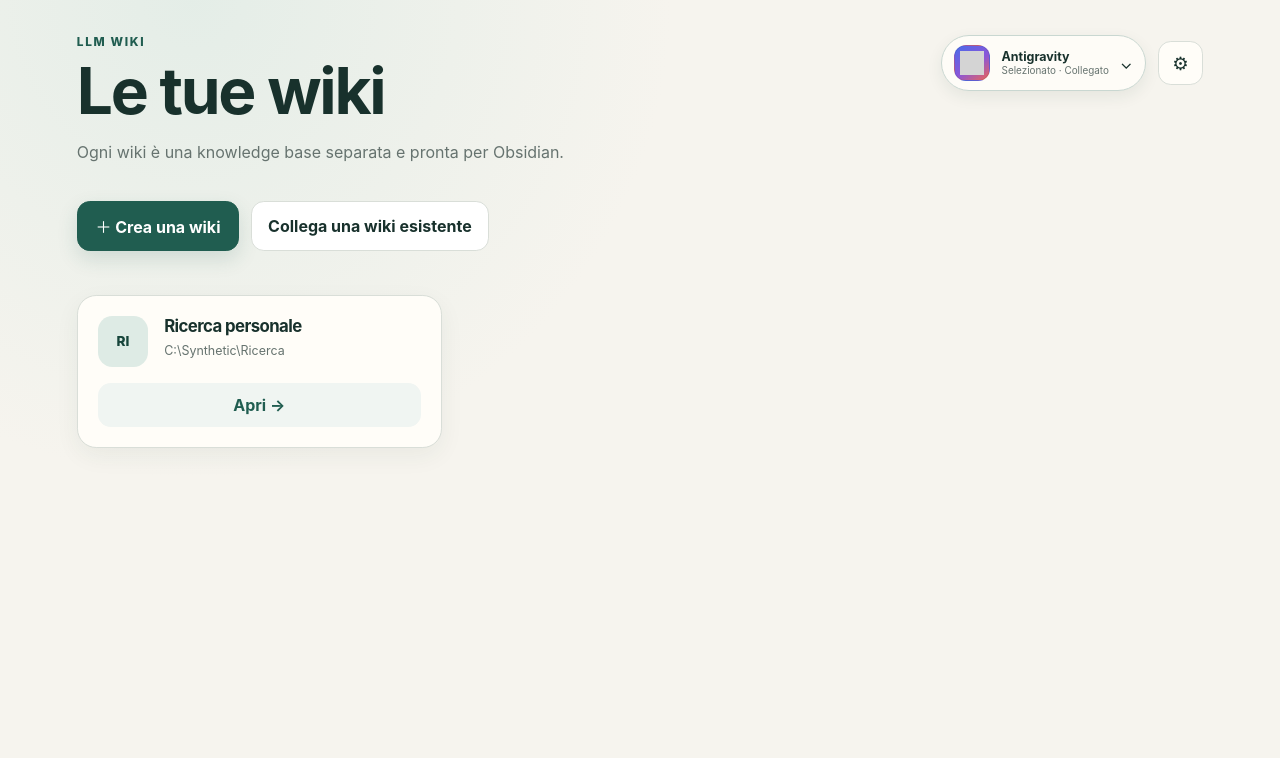
App › shows the provider failure reason and automatically opens diagnostics
Click the button "Apri →" at (259, 405), box [98,383,421,427]
(page scrolled)
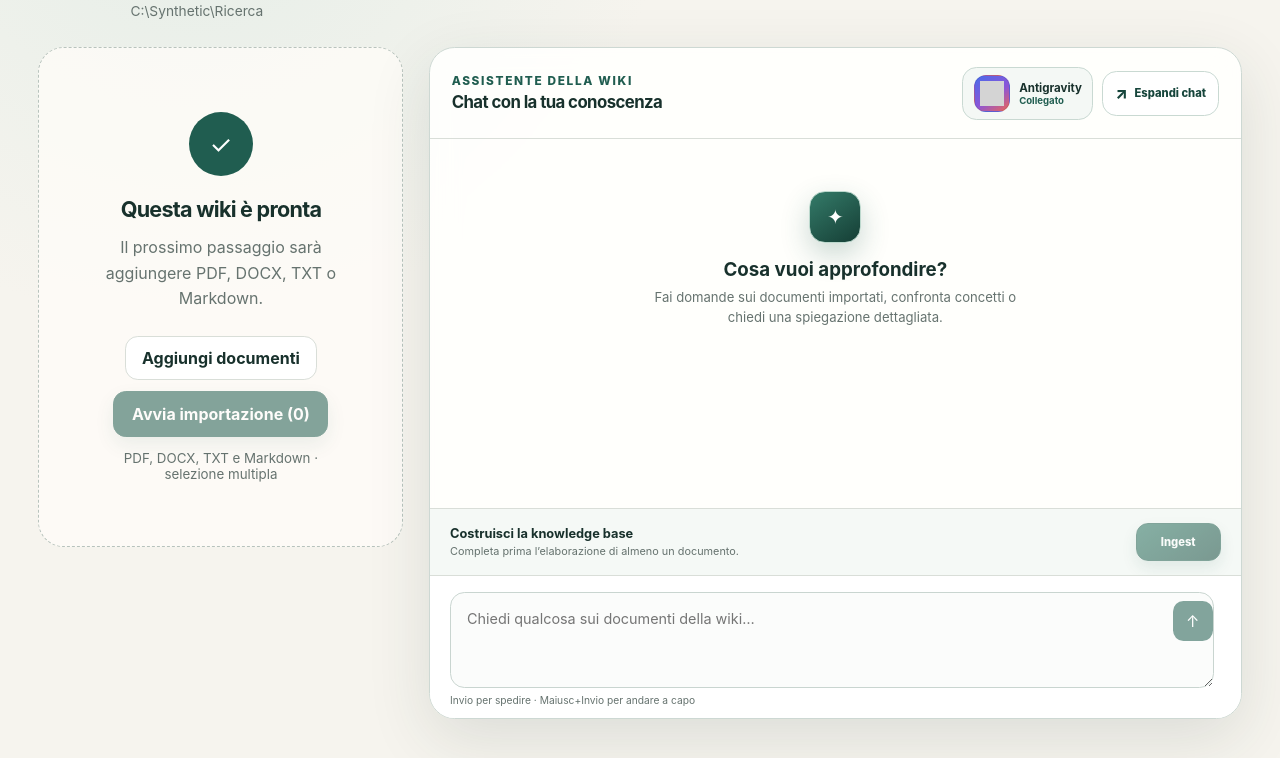
Type "Test collegamento" into the text box with placeholder "Chiedi qualcosa sui documenti della wiki…" at (832, 640), box [450,592,1214,688]
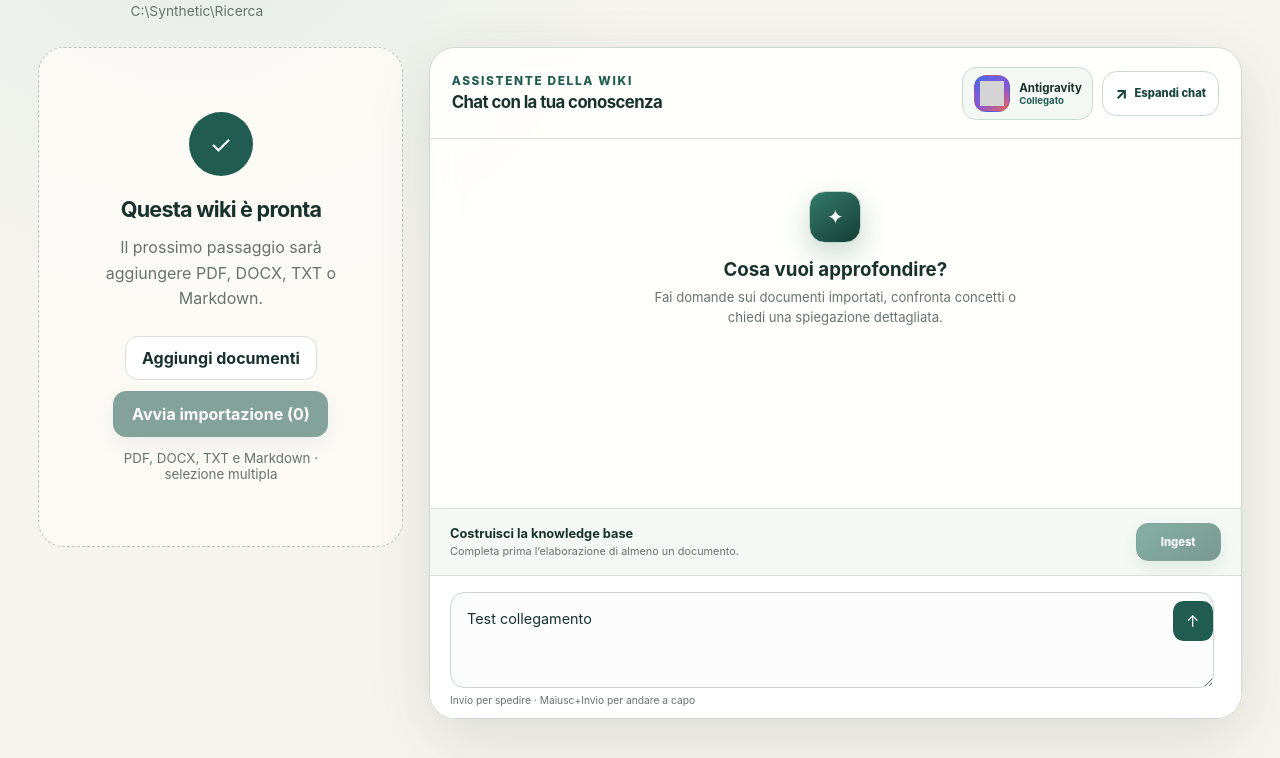
Click the button named "Invia messaggio" at (1193, 621), box [1173,601,1213,641]
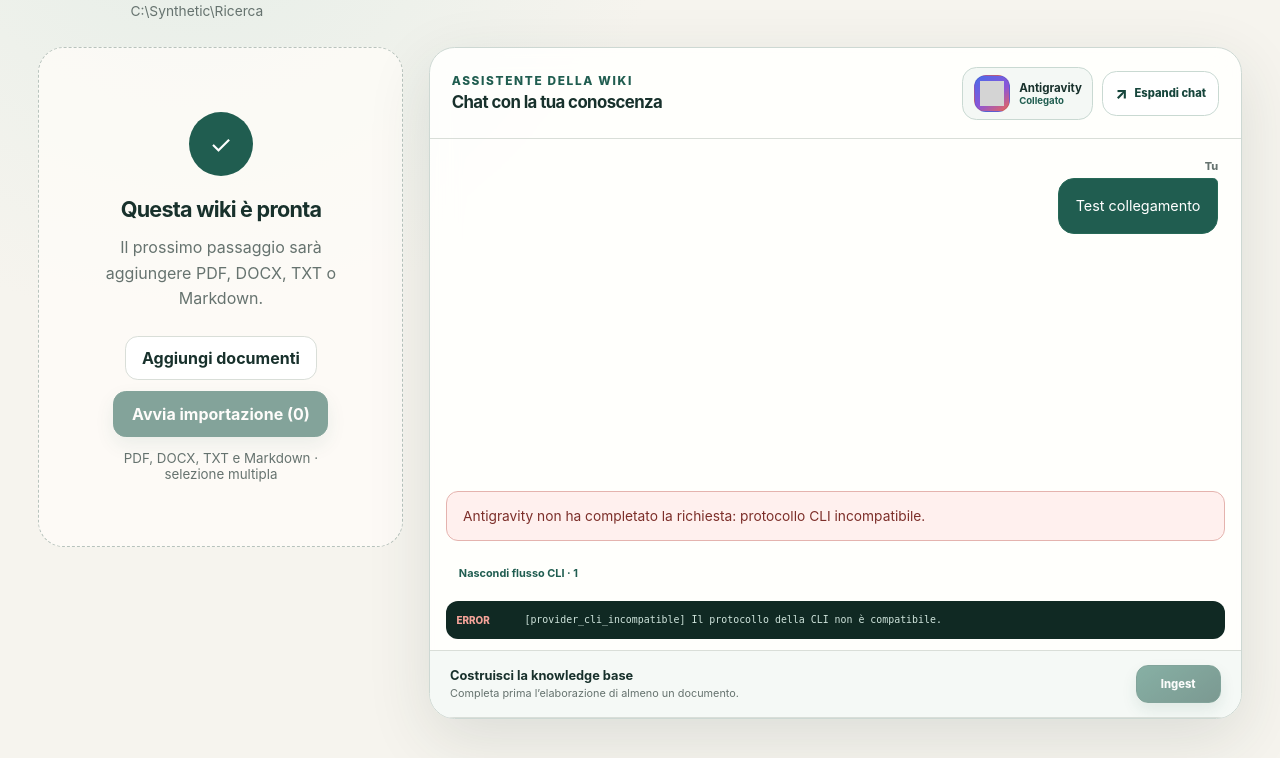
Expected: the text "Antigravity non ha completato la richiesta: protocollo CLI incompatibile." is shown, [446,491,1225,541]
Expected: the text "[provider_cli_incompatible]" is shown, [524,614,942,625]
